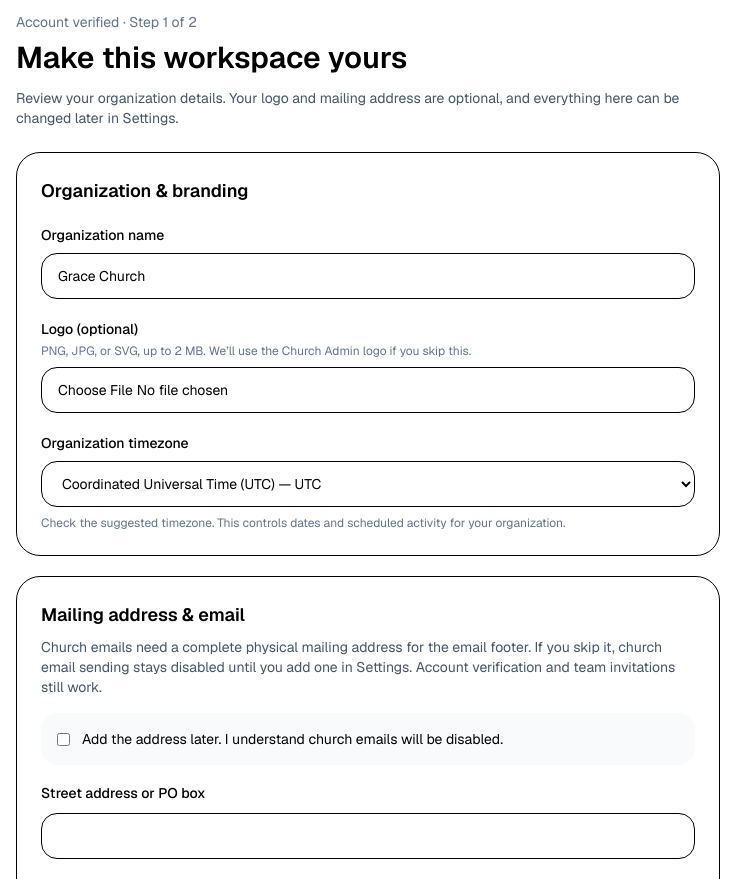
lets an owner finish without a logo or mailing address and explains email restrictions
Expected: the field labelled "Organization name" is shown, top-left (41, 253), bottom-right (695, 299)
Click the checkbox: (64, 740) top-left (57, 733), bottom-right (70, 746)
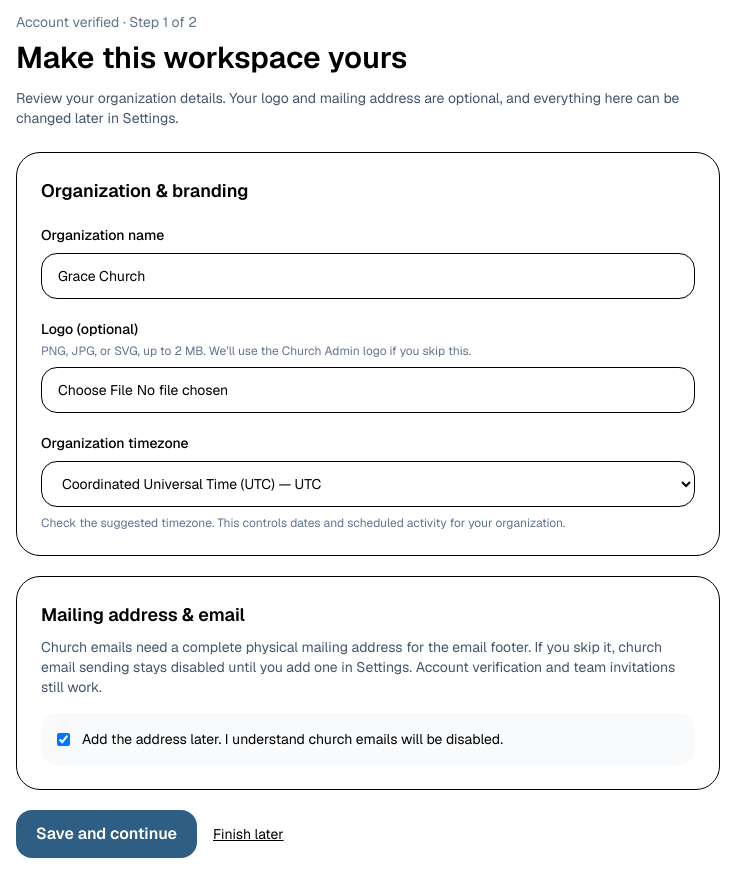
Click the button "Save and continue": (106, 834) top-left (16, 810), bottom-right (197, 858)
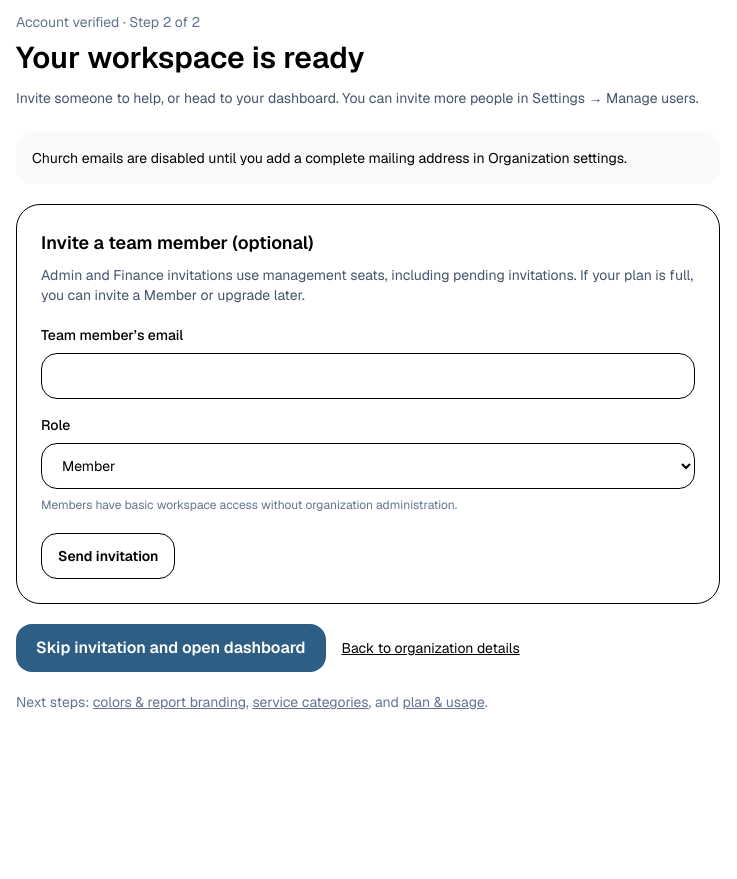
Expected: the heading "Your workspace is ready" is shown, top-left (16, 38), bottom-right (365, 77)
Expected: the text "Church emails are disabled until" is shown, top-left (32, 149), bottom-right (627, 167)
